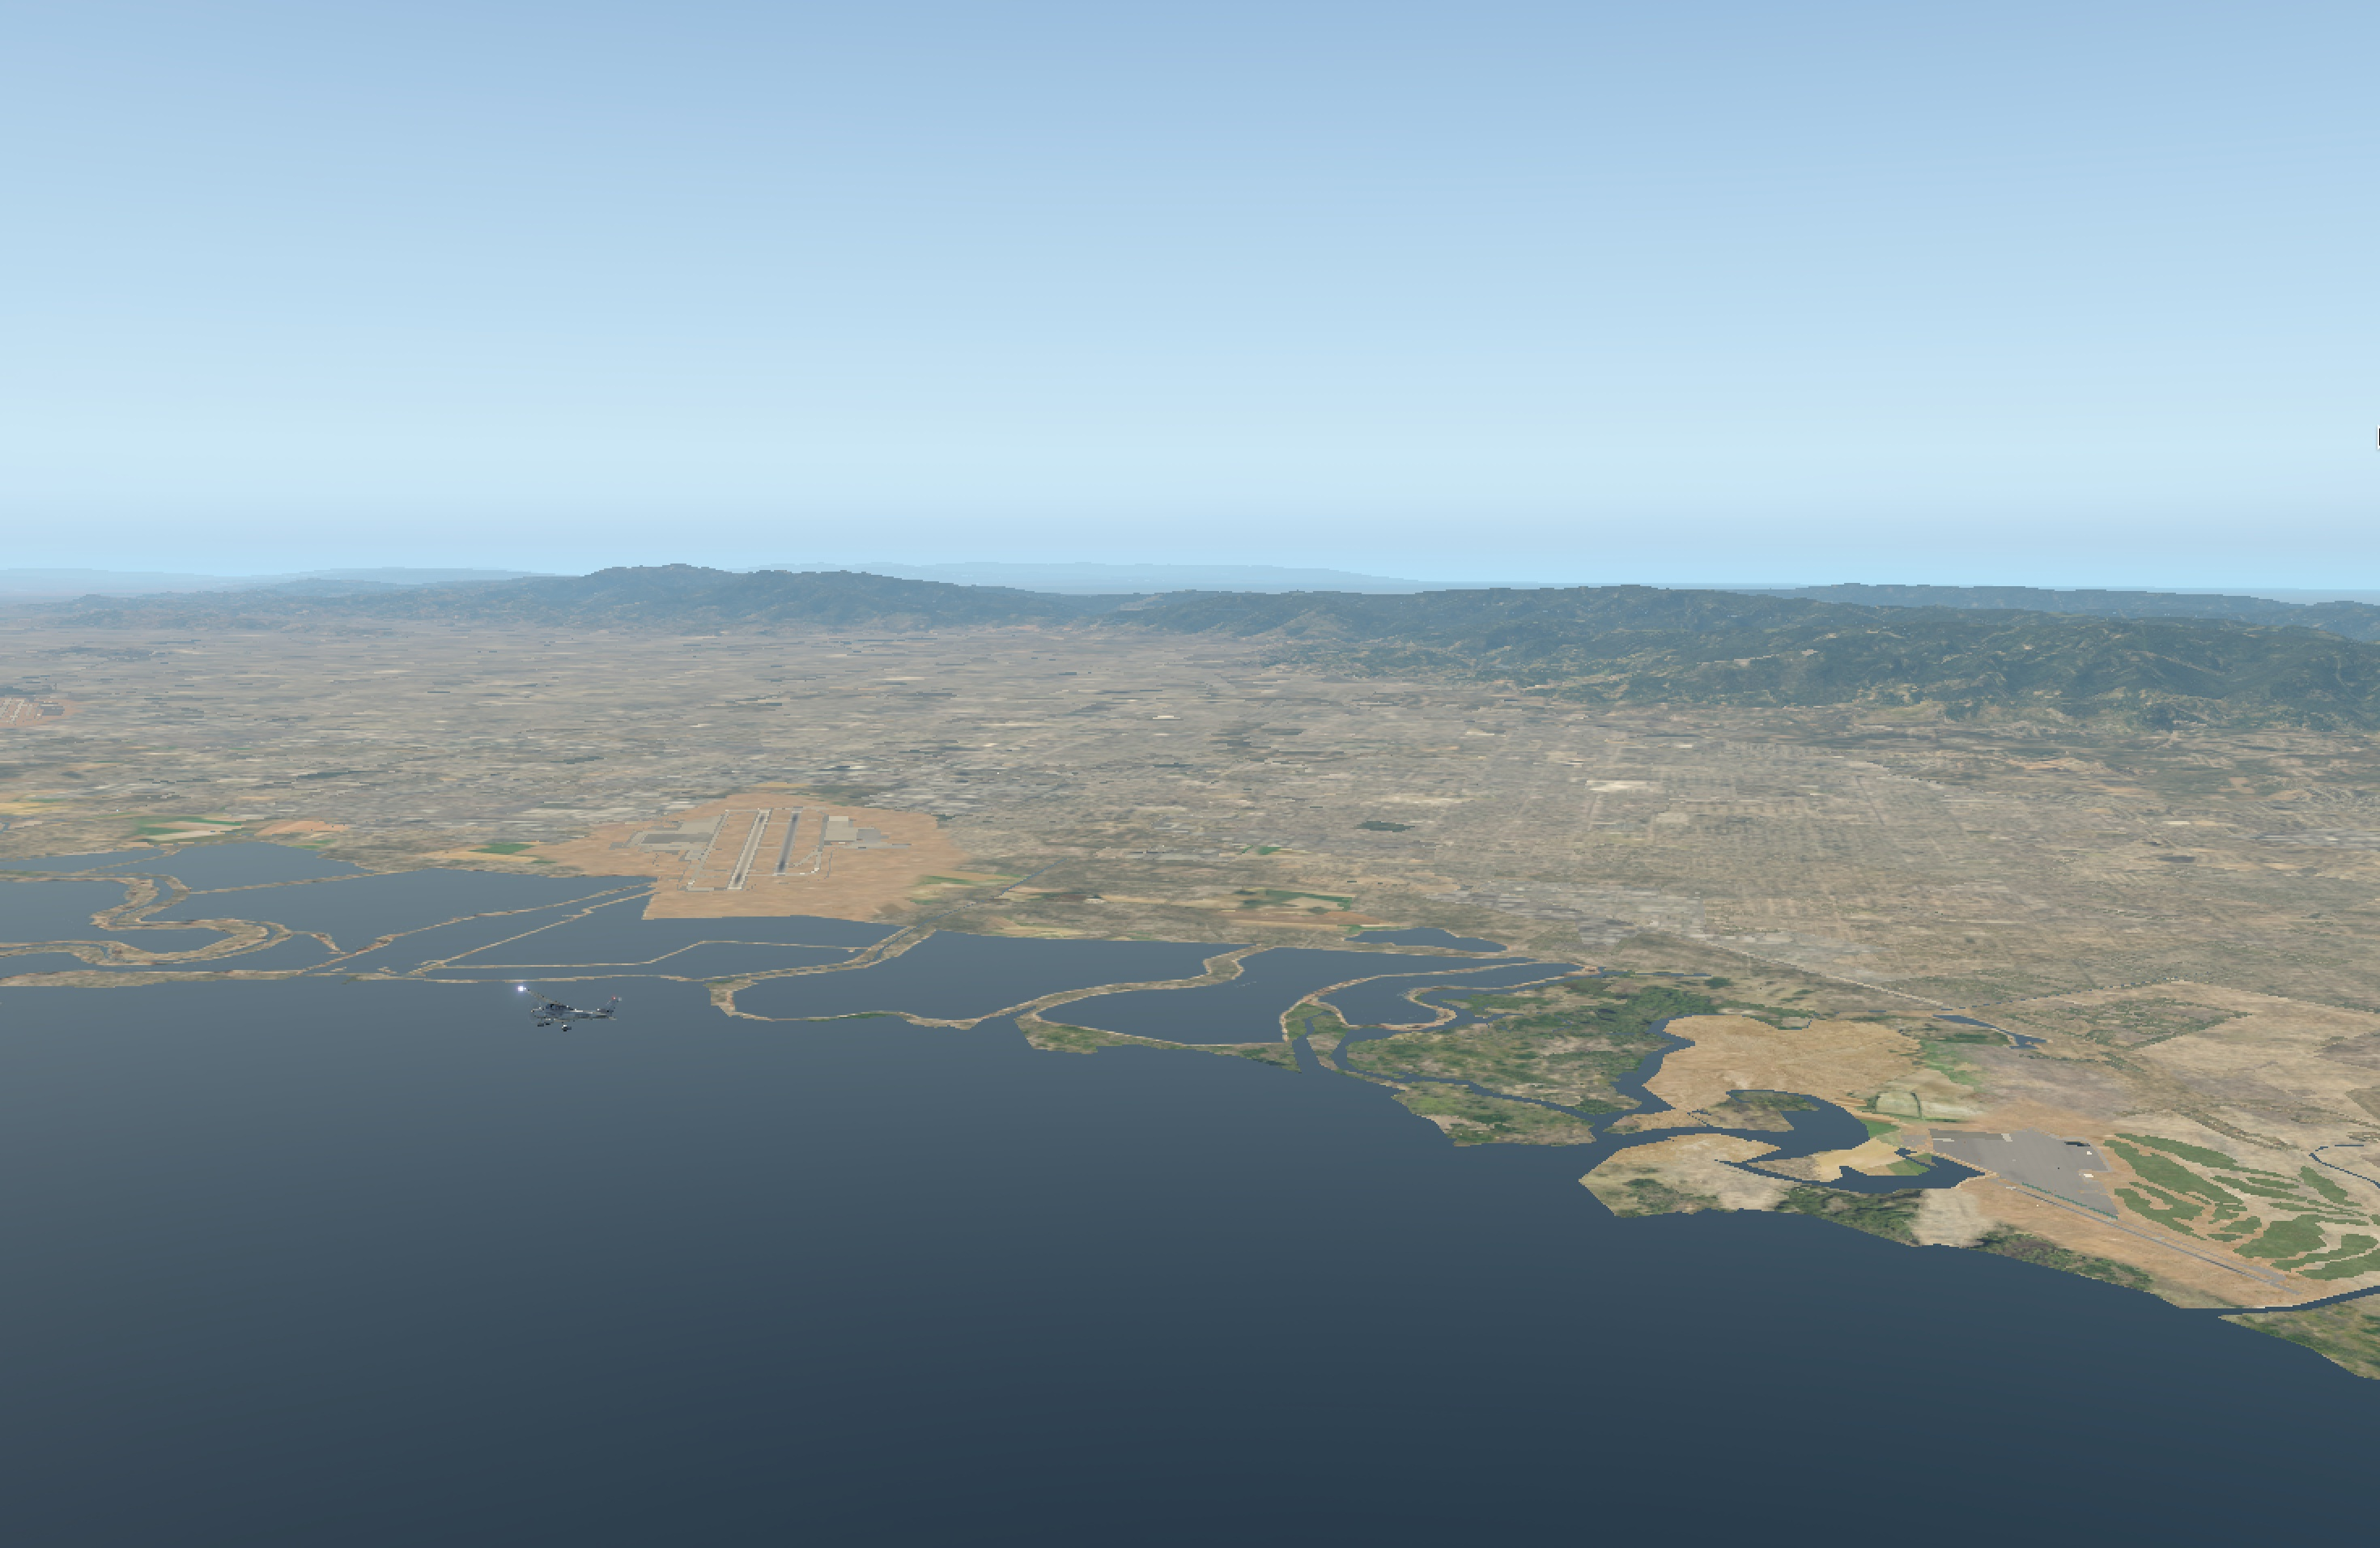aircraft: (512, 994, 602, 1029)
